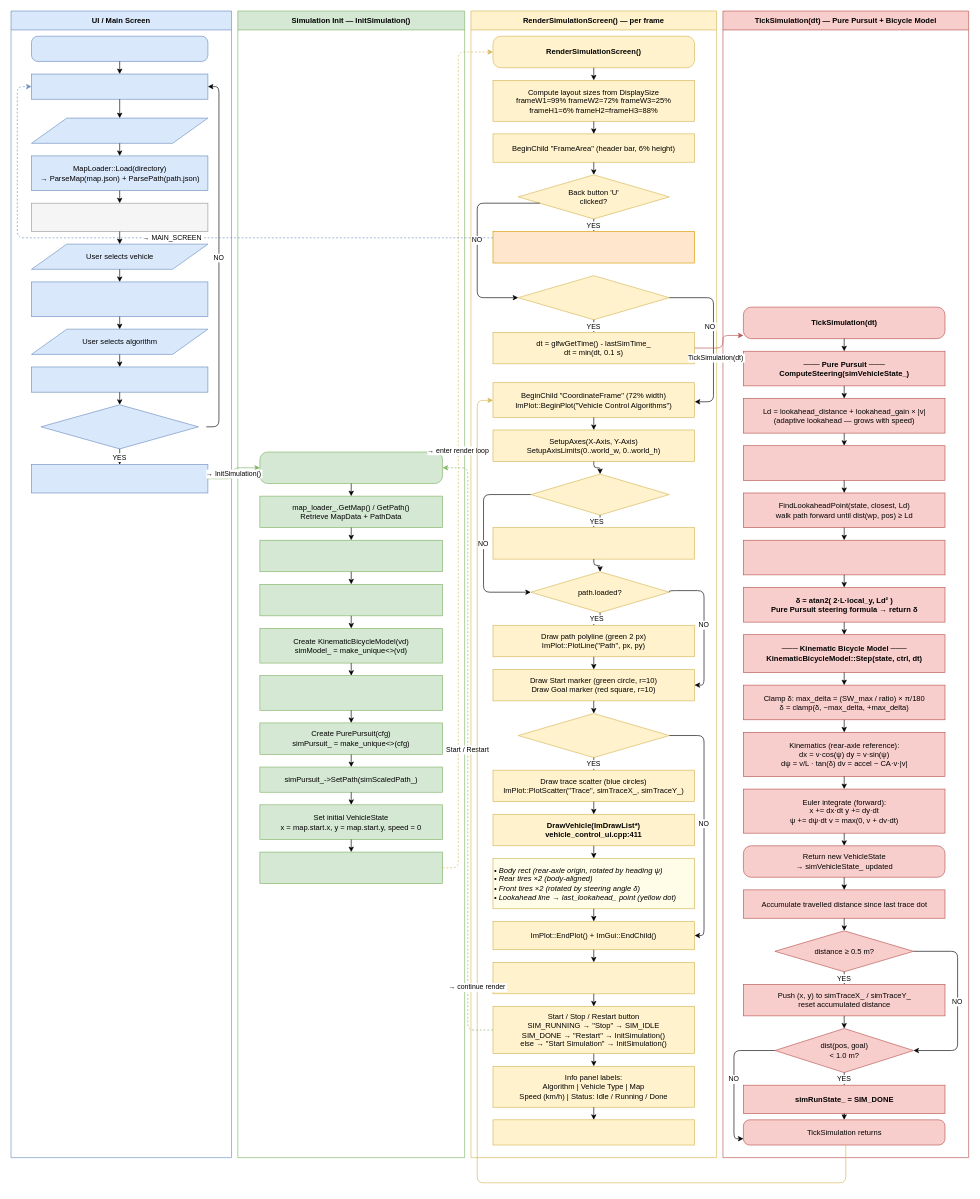
Image size: 980x1199. Some labels were removed from this diagram. The shapes that lost their labels are listed below. From the top down, each one's centre as x and y in pixels, then its label:
(x=119, y=48): App Launch
(x=119, y=86): Main Screen
(x=119, y=130): User selects map
(x=119, y=217): MapData: obstacles[ ], start, goal, world dims PathData: waypoints[ ] (x,y)
(x=593, y=247): ResetSimulation() currentScreen = MAIN_SCREEN → exit
(x=119, y=299): VehicleLoader::Load() → VehicleData (mass, wheelbase, L, steering limits…)
(x=593, y=297): simRunState_ == SIM_RUNNING?
(x=119, y=379): selectedAlgorithm_ = "Pure Pursuit"
(x=119, y=426): Map + Vehicle + Algorithm all selected?
(x=119, y=478): currentScreen = SIMULATION_SCREEN
(x=351, y=467): InitSimulation()
(x=844, y=462): FindClosestWaypoint(state) forward search, window = 40 waypoints
(x=599, y=494): map.loaded?
(x=351, y=556): Compute simScale_ (world_width / vehicle reference area)
(x=593, y=543): Draw obstacle rectangles (grey fill IM_COL32(100,100,120) via ImDrawList)
(x=844, y=557): local_y = −dx·sin(ψ) + dy·cos(ψ) cross-track error in vehicle frame
(x=351, y=600): Scale waypoints simScaledPath_ ← waypoints × simScale_
(x=351, y=692): Load PurePursuitConfig from JSON lookahead_distance, lookahead_gain, wheelbase
(x=593, y=735): simRunState_ != SIM_IDLE?
(x=351, y=867): simRunState_ = SIM_RUNNING lastSimTime_ = glfwGetTime()
(x=593, y=978): BeginChild "RightFrame" (25% width) RenderNotification()
(x=593, y=1132): Save Diagram button (stub — std::cout)
